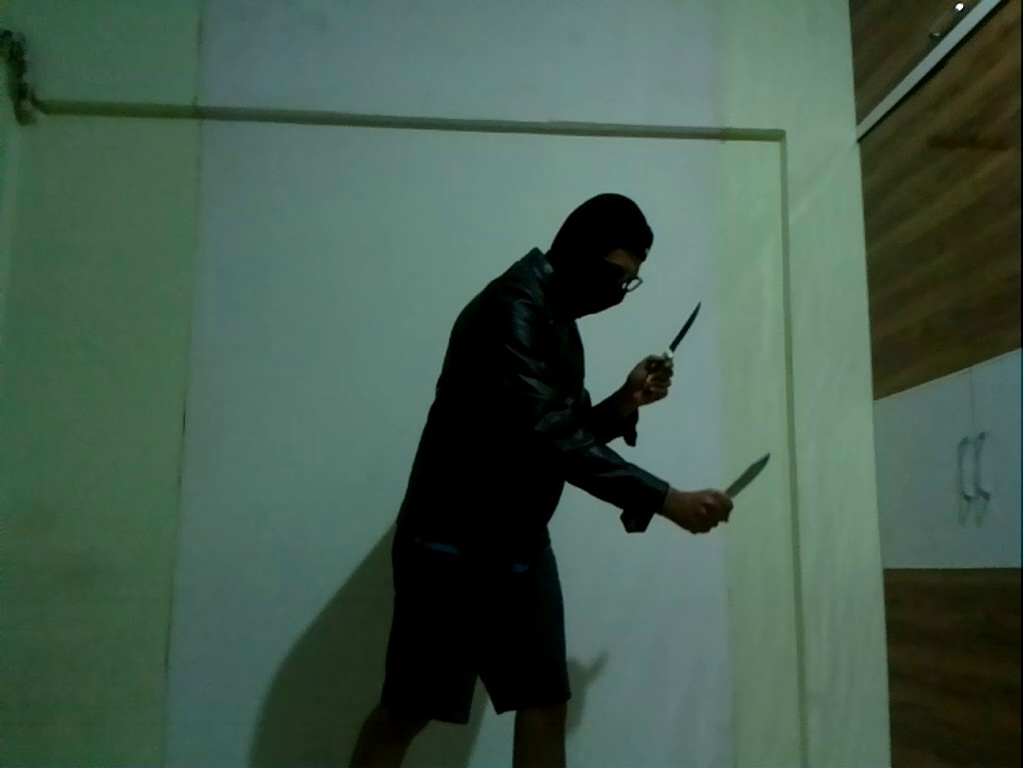knife: (662, 295, 709, 368), (721, 448, 777, 505)
